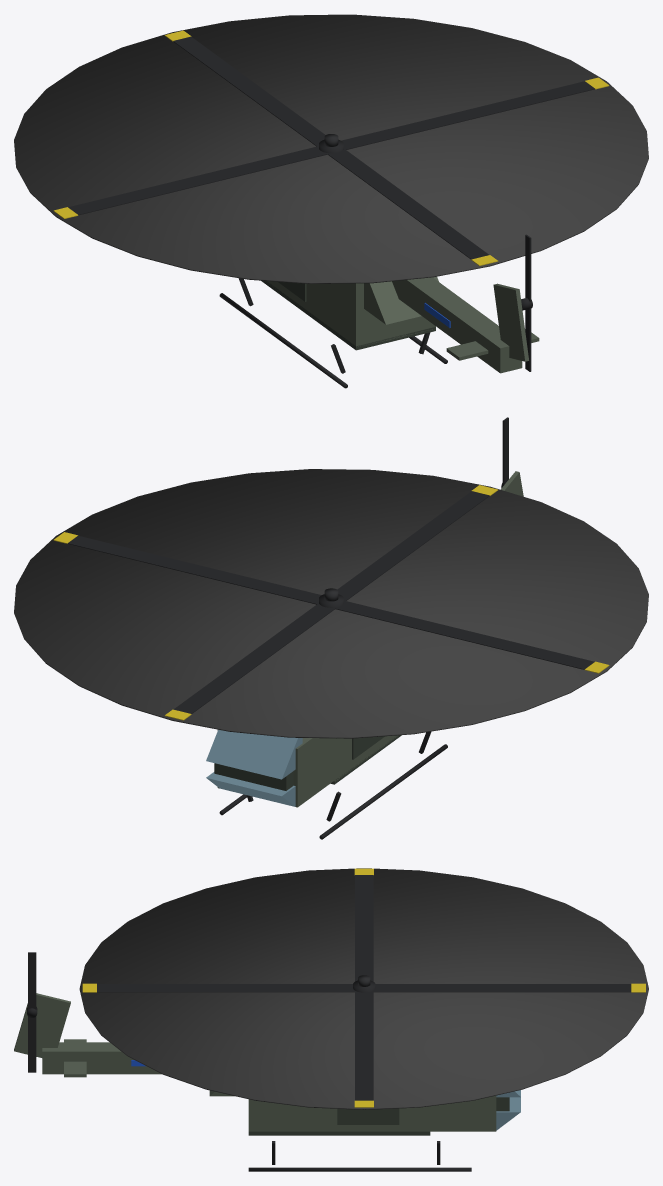
The model's file is TransportHeli_Blue.fbx.
3 renders of one model, top to bottom at view 1: azimuth 30°, elevation 25°; view 2: azimuth 150°, elevation 25°; view 3: azimuth 270°, elevation 25°, orthographic. The views are drawn at different scales.
Parts seen in each view (by area): view 1: RotorDisc, TailBoom, Cabin, RotorBlade3, RotorBlade1, RotorBlade2, RotorBlade0, Fin, BoomTaper, Floor, SkidL, Stabilizer; view 2: RotorDisc, Windscreen, RotorBlade3, RotorBlade1, RotorBlade0, RotorBlade2, Cockpit, ChinWindows, Cabin, NoseCone, SkidL; view 3: RotorDisc, Cabin, TailBoom, RotorBlade0, RotorBlade2, RotorBlade1, Cockpit, RotorBlade3, Fin, SkidR, DoorFrameR, Floor (+4 smaller).
Part boxes in pixels (box(x1,y1,x2,y2)): RotorDisc: box(14, 14, 648, 283); TailBoom: box(392, 277, 522, 373); Cabin: box(264, 281, 435, 346); RotorBlade3: box(68, 146, 328, 215); RotorBlade1: box(341, 81, 594, 149); RotorBlade2: box(327, 149, 488, 259); RotorBlade0: box(173, 36, 325, 146); Fin: box(493, 283, 528, 361); BoomTaper: box(364, 276, 438, 324); Floor: box(261, 280, 435, 350); SkidL: box(219, 293, 347, 388); Stabilizer: box(446, 329, 539, 360); RotorDisc: box(14, 469, 648, 738); Windscreen: box(206, 729, 302, 779); RotorBlade3: box(335, 601, 594, 669); RotorBlade1: box(67, 535, 321, 604); RotorBlade0: box(173, 604, 335, 713); RotorBlade2: box(337, 491, 489, 601); Cockpit: box(217, 730, 334, 807); ChinWindows: box(206, 772, 295, 806); Cabin: box(333, 735, 398, 782); NoseCone: box(214, 763, 293, 790); SkidL: box(319, 744, 447, 839); RotorDisc: box(79, 868, 648, 1109); Cabin: box(248, 1099, 430, 1131); TailBoom: box(42, 1042, 161, 1074); RotorBlade0: box(372, 984, 631, 992); RotorBlade2: box(97, 984, 355, 992); RotorBlade1: box(355, 991, 373, 1100); Cockpit: box(430, 1095, 496, 1131); RotorBlade3: box(355, 875, 373, 981); Fin: box(14, 993, 70, 1057); SkidR: box(248, 1167, 471, 1171); DoorFrameR: box(337, 1108, 399, 1124); Floor: box(248, 1131, 430, 1135).
Bounding box in the file's own units: 1380 × 1539 × 540.
